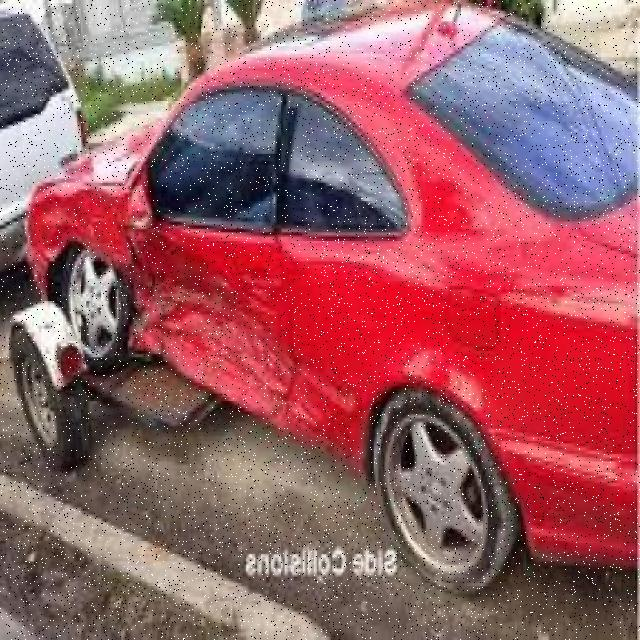damage: (21, 181, 364, 451)
